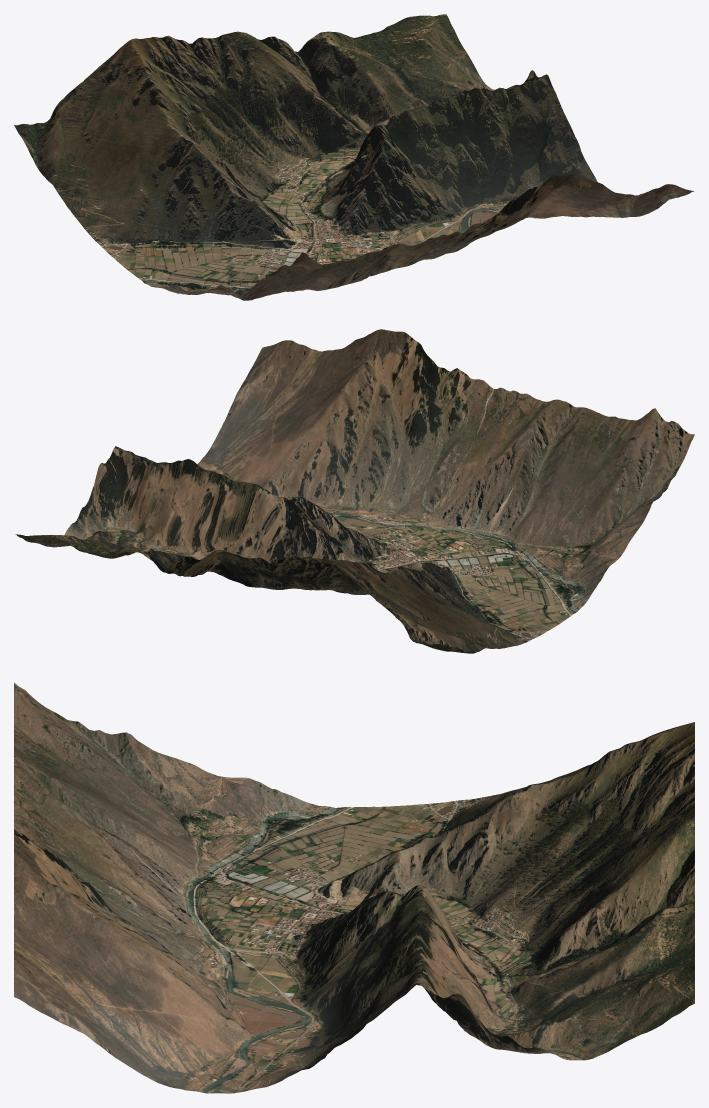
File: machu-picchu.glb
3 views of the same model, one above another, from view 1: azimuth 30°, elevation 25°; view 2: azimuth 150°, elevation 25°; view 3: azimuth 270°, elevation 25° (orthographic). The views are drawn at different scales.
Visible parts, largest first — view 1: TerrainNode_0; view 2: TerrainNode_0; view 3: TerrainNode_0.
Boxes of the visible parts, x1,y1,x2,y2 form: TerrainNode_0: (14, 14, 693, 300); TerrainNode_0: (15, 329, 694, 653); TerrainNode_0: (14, 682, 694, 1093).
Size of the model in its own units: 4051 by 1101 by 4035.
1 material, 1 textured.
